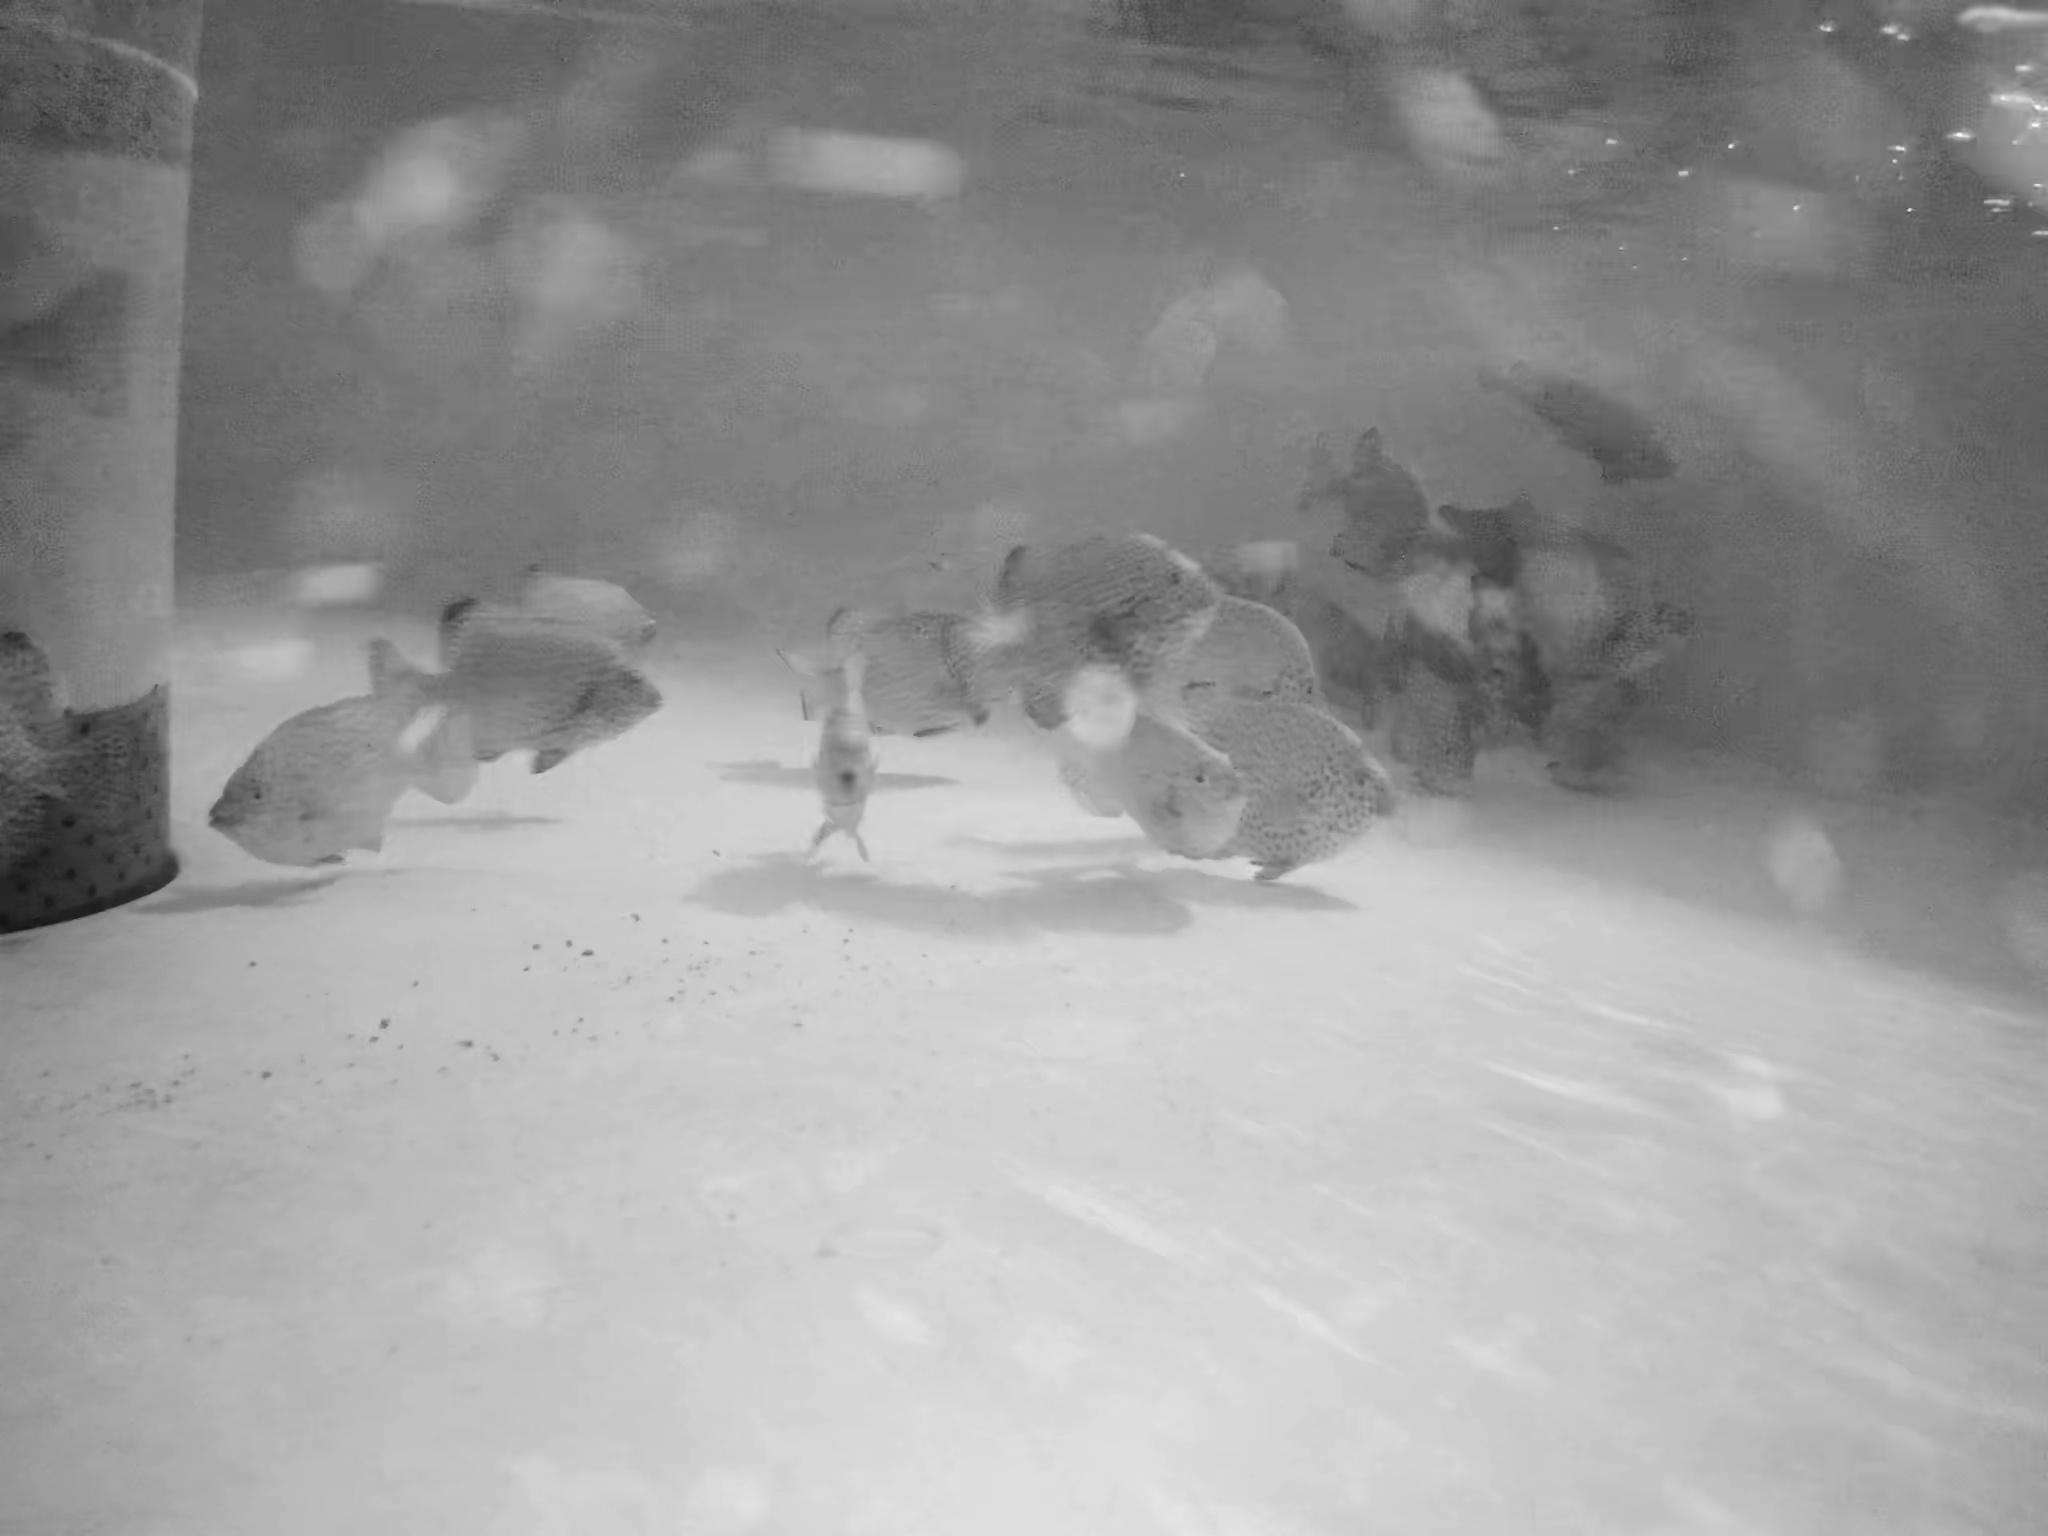fish: (376, 578, 668, 760), (1458, 513, 1713, 716), (208, 686, 498, 860), (806, 560, 1066, 753), (1151, 671, 1409, 854), (964, 537, 1256, 682), (734, 691, 971, 857), (2, 628, 169, 854), (1071, 687, 1242, 879), (1377, 600, 1551, 779), (514, 566, 710, 694), (1301, 416, 1445, 578), (1205, 586, 1334, 745)
